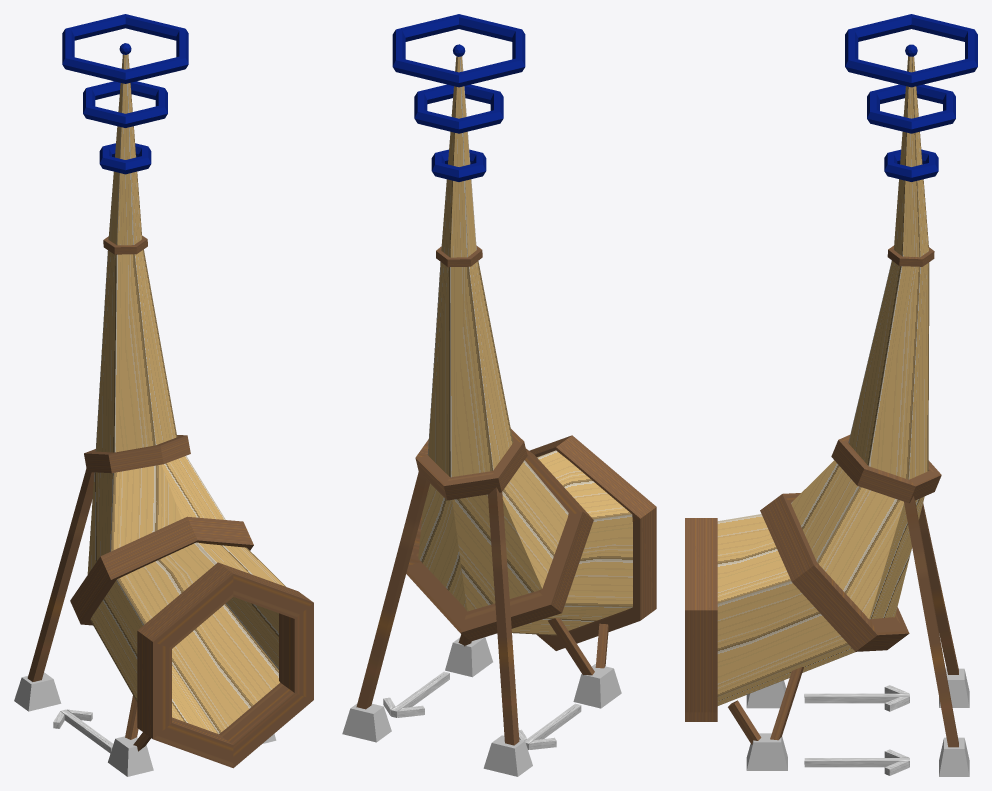
Rendered from TransmitterGood.obj.
3 renders of one model, left to right at view 1: azimuth 30°, elevation 25°; view 2: azimuth 150°, elevation 25°; view 3: azimuth 270°, elevation 25°, orthographic. The views are drawn at different scales.
Parts seen in each view (by area): view 1: Band7.002_Circle.005, Cylinder.005_Cylinder.008, Cylinder.018_Cylinder.021, Band7.004_Circle.003, Cylinder.024_Cylinder.027, Torus.004, Cylinder.011_Cylinder.014, Cylinder.019_Cylinder.022, Cylinder.008_Cylinder.011, Cube_Cube.002, Cylinder.022_Cylinder.025, Torus.003 (+13 smaller); view 2: Band7.004_Circle.003, Cube_Cube.002, Cylinder.023_Cylinder.026, Band7.002_Circle.005, Cylinder.028_Cylinder.031, Cylinder.008_Cylinder.011, Torus.004, Cylinder.029_Cylinder.032, Cylinder.022_Cylinder.025, Cylinder.021_Cylinder.024, Cylinder.027_Cylinder.030, Band7.003_Circle.005 (+11 smaller); view 3: Cylinder.003_Cylinder.006, Band7.002_Circle.005, Band7.004_Circle.003, Cylinder.020_Cylinder.023, Cylinder.025_Cylinder.028, Cube_Cube.002, Cylinder.001, Torus.004, Cylinder.019_Cylinder.022, Cylinder.026_Cylinder.029, Cylinder.021_Cylinder.024, Band7.003_Circle.005 (+13 smaller).
Boxes of the visible parts, box(x1,y1,x2,y2) form: Band7.002_Circle.005: box(137, 562, 313, 768); Cylinder.005_Cylinder.008: box(172, 604, 279, 733); Cylinder.018_Cylinder.021: box(114, 254, 155, 452); Band7.004_Circle.003: box(70, 516, 253, 625); Cylinder.024_Cylinder.027: box(111, 464, 181, 551); Torus.004: box(62, 14, 188, 83); Cylinder.011_Cylinder.014: box(117, 542, 215, 624); Cylinder.019_Cylinder.022: box(134, 249, 177, 444); Cylinder.008_Cylinder.011: box(90, 580, 143, 701); Cube_Cube.002: box(27, 468, 94, 681); Cylinder.022_Cylinder.025: box(95, 250, 116, 452); Torus.003: box(83, 81, 167, 127); Band7.004_Circle.003: box(406, 448, 593, 641); Cube_Cube.002: box(356, 469, 519, 745); Cylinder.023_Cylinder.026: box(450, 266, 492, 477); Band7.002_Circle.005: box(529, 435, 656, 650); Cylinder.028_Cylinder.031: box(452, 494, 541, 611); Cylinder.008_Cylinder.011: box(564, 514, 632, 607); Torus.004: box(392, 14, 525, 87); Cylinder.029_Cylinder.032: box(502, 460, 568, 588); Cylinder.022_Cylinder.025: box(469, 261, 513, 470); Cylinder.021_Cylinder.024: box(427, 262, 450, 477); Cylinder.027_Cylinder.030: box(418, 483, 467, 610); Band7.003_Circle.005: box(415, 429, 527, 500); Cylinder.003_Cylinder.006: box(717, 581, 848, 696); Band7.002_Circle.005: box(685, 518, 717, 721); Band7.004_Circle.003: box(760, 493, 909, 651); Cylinder.020_Cylinder.023: box(868, 266, 919, 479); Cylinder.025_Cylinder.028: box(817, 486, 903, 618); Cube_Cube.002: box(904, 496, 958, 747); Cylinder.001: box(717, 514, 790, 603); Torus.004: box(845, 14, 977, 87); Cylinder.019_Cylinder.022: box(848, 260, 901, 465); Cylinder.026_Cylinder.029: box(791, 460, 859, 562); Cylinder.021_Cylinder.024: box(908, 262, 929, 479); Band7.003_Circle.005: box(831, 435, 941, 503).
Bounding box in the file's own units: 2.42 × 9.08 × 3.49.
Materials: 6 (3 with a texture image).
